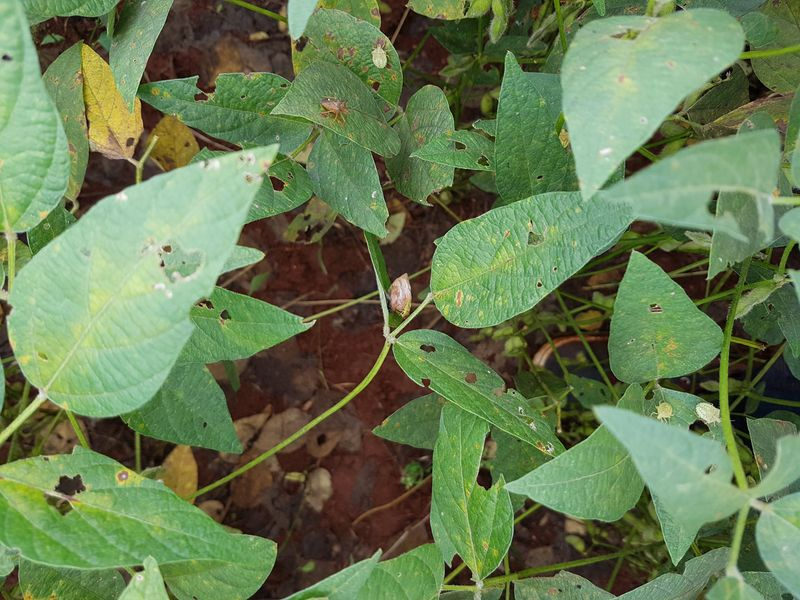Euschistus_heros_adulto: (311, 92, 355, 127)
Euschistus_heros_ninfa: (689, 398, 728, 433), (365, 38, 396, 73), (647, 397, 678, 426)
Gastropoda: (382, 268, 415, 300)
